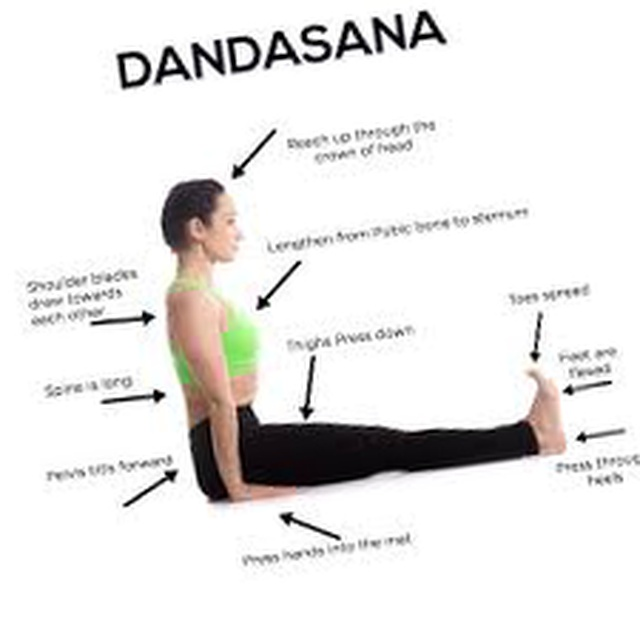Staff_Pose: (161, 177, 568, 505)
